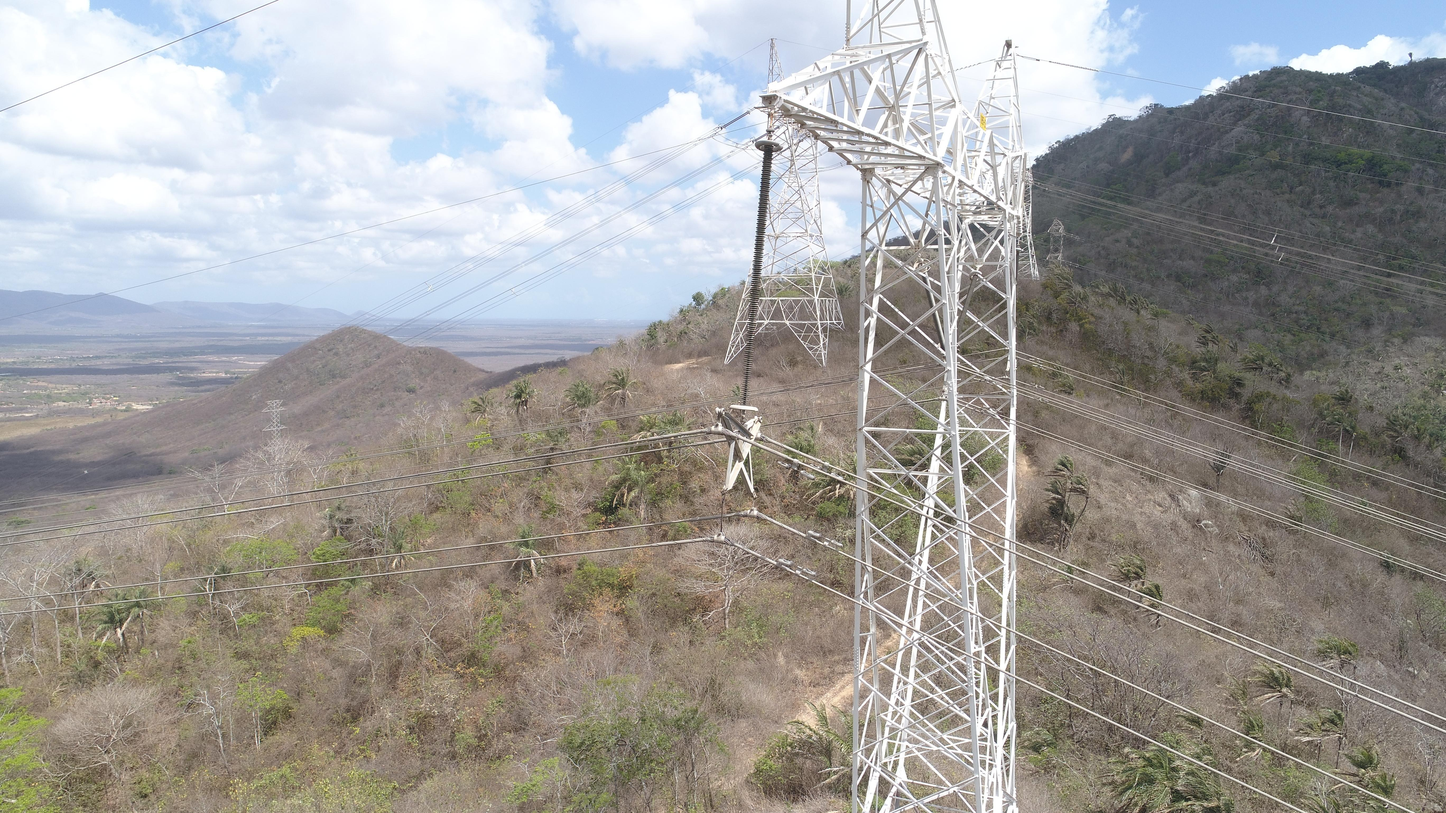power_tower: (706, 1, 1039, 813), (714, 35, 850, 372), (1005, 157, 1039, 281), (260, 394, 291, 473), (1044, 218, 1082, 278)
